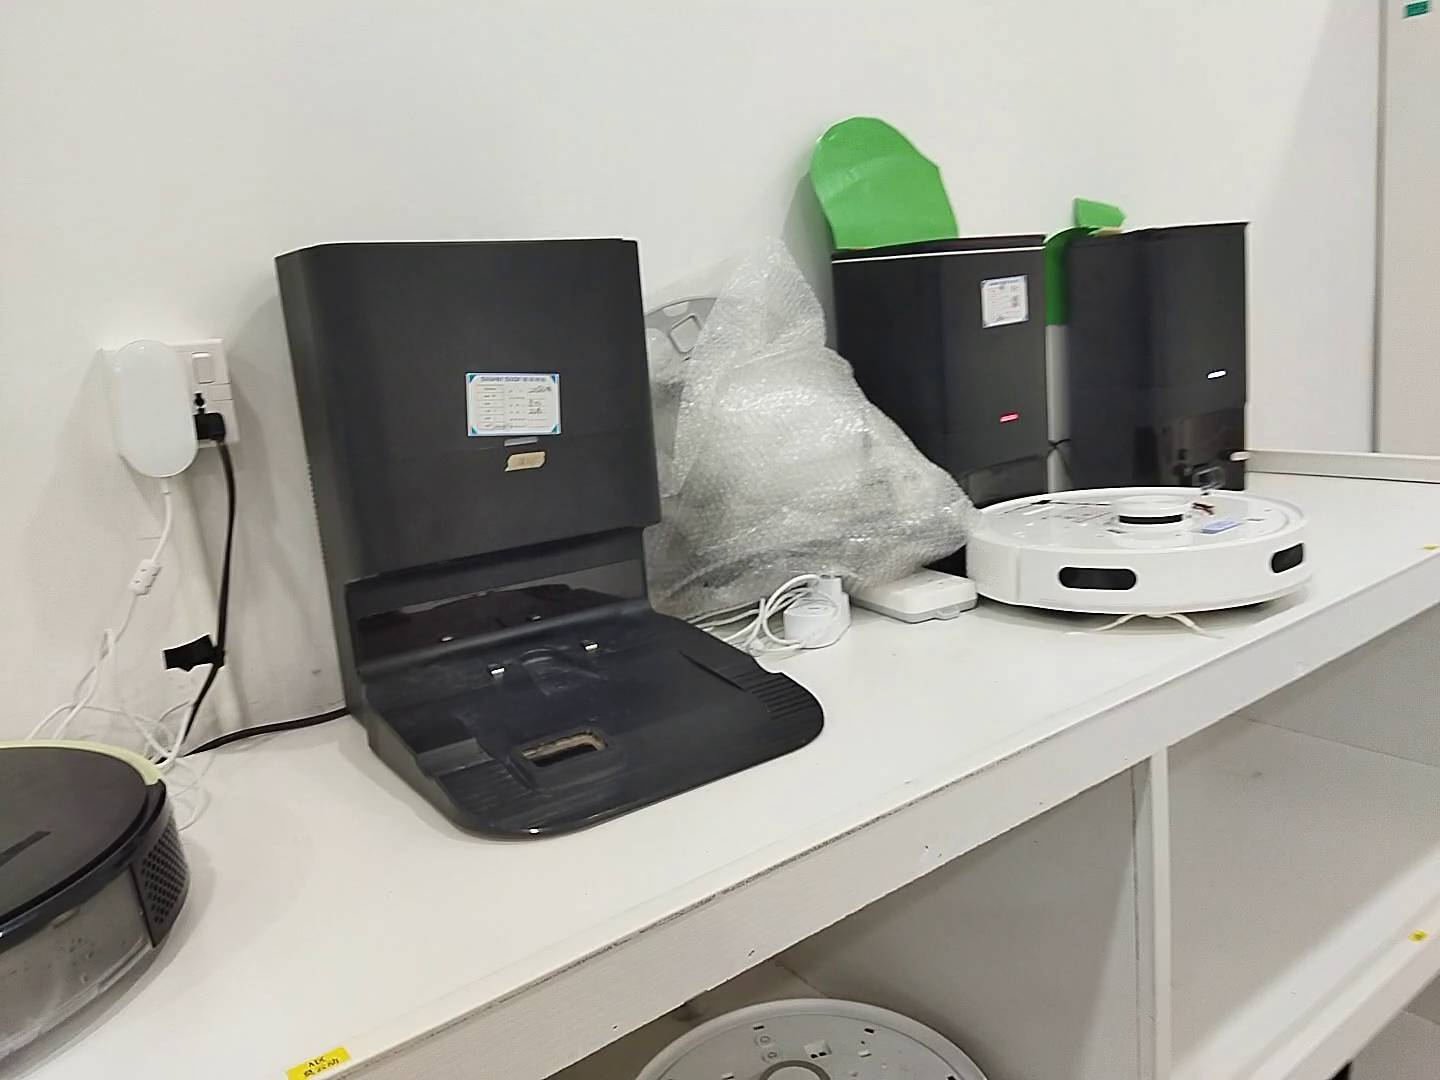dust collecting barrel: (274, 239, 824, 836), (830, 235, 1051, 564), (1070, 222, 1251, 489)
